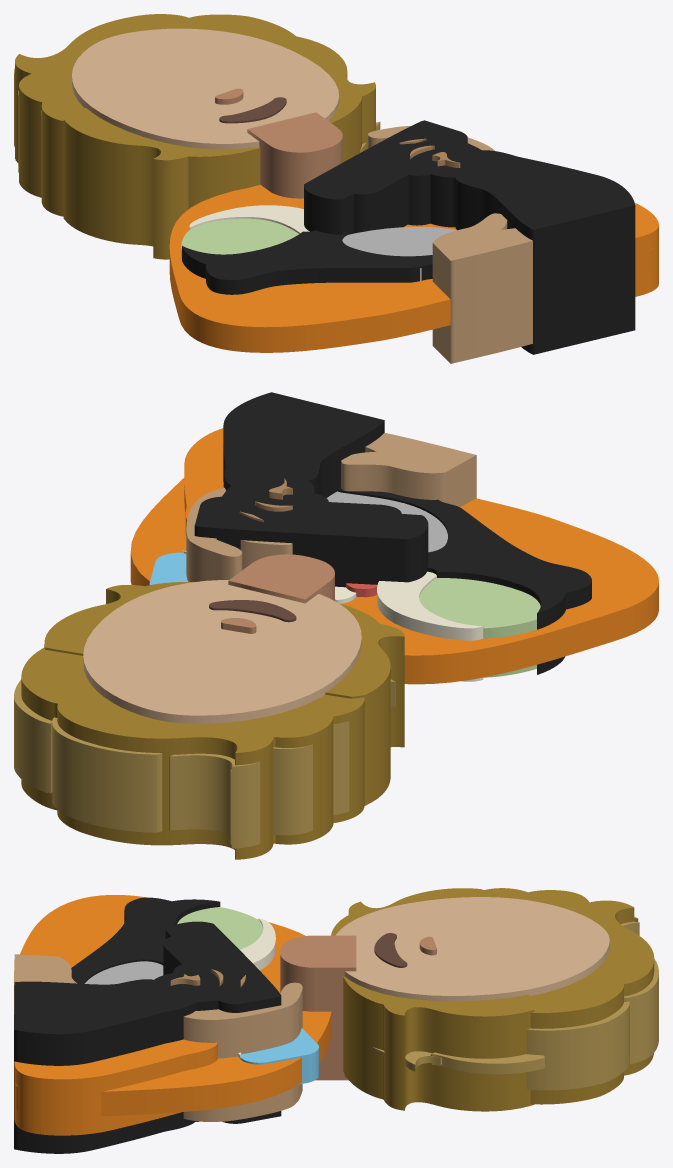
Rendered from emoji_u1f9d1_1f3fc_200d_1f37c.glb.
3 renders of one model, top to bottom at view 1: azimuth 30°, elevation 25°; view 2: azimuth 150°, elevation 25°; view 3: azimuth 270°, elevation 25°, orthographic. The views are drawn at different scales.
Parts seen in each view (by area): view 1: emoji_u1f9d1_1f3fc_200d_1f37c; view 2: emoji_u1f9d1_1f3fc_200d_1f37c; view 3: emoji_u1f9d1_1f3fc_200d_1f37c.
Part boxes in pixels (x1,y1,x2,y2): emoji_u1f9d1_1f3fc_200d_1f37c: (14, 14, 658, 363); emoji_u1f9d1_1f3fc_200d_1f37c: (14, 392, 658, 859); emoji_u1f9d1_1f3fc_200d_1f37c: (14, 888, 658, 1153).
Size of the model in its own units: 0.0244 by 0.0074 by 0.0332.
